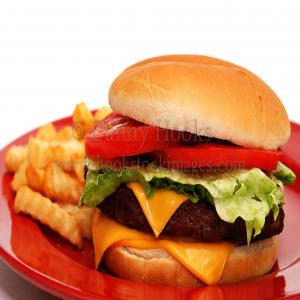cheeseburger: (93, 44, 294, 285)
fries: (6, 104, 107, 244)
